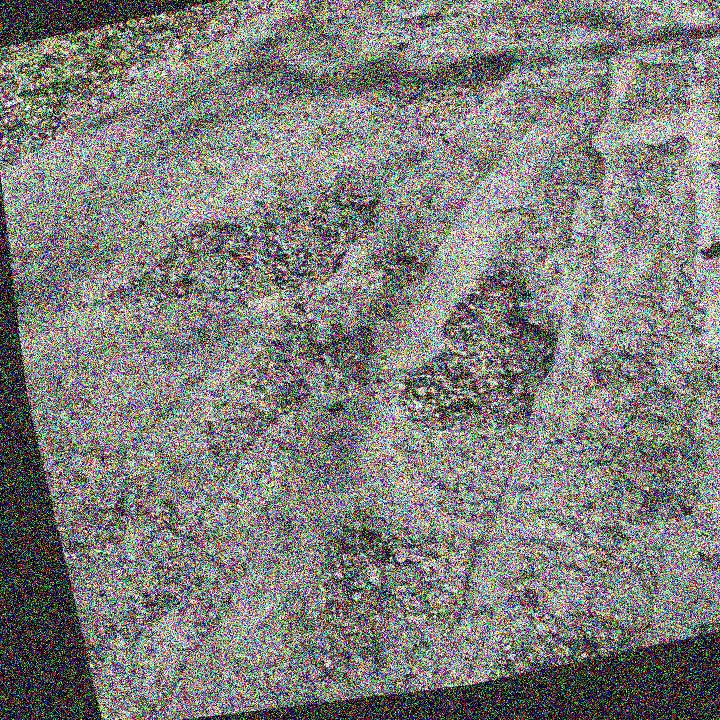pothole: (366, 255, 585, 455), (202, 170, 404, 318), (282, 516, 421, 681), (76, 212, 255, 327), (229, 320, 391, 428), (411, 46, 528, 126), (346, 242, 428, 294)
